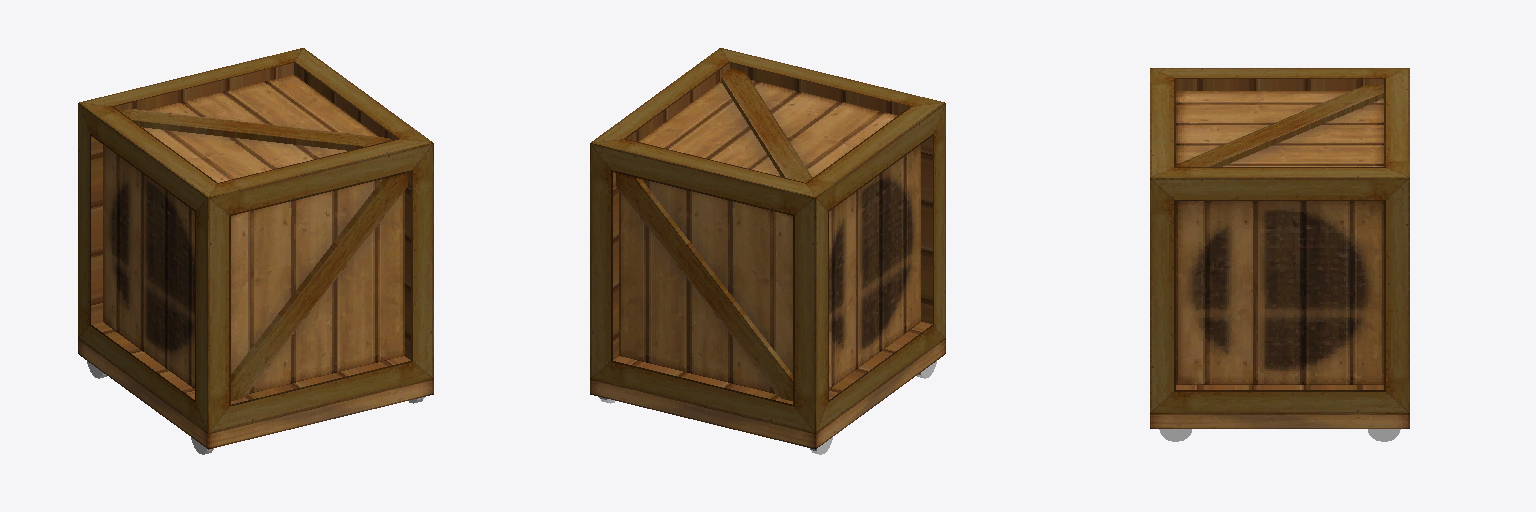
3 views of the same model, side by side, from view 1: azimuth 30°, elevation 25°; view 2: azimuth 150°, elevation 25°; view 3: azimuth 270°, elevation 25° (orthographic).
Visible parts, largest first — view 1: polygon0; view 2: polygon0; view 3: polygon0, polygon1.
Boxes of the visible parts, <box> form: polygon0: <box>78,48,433,449</box>; polygon0: <box>590,48,945,449</box>; polygon0: <box>1150,68,1409,428</box>; polygon1: <box>1159,429,1400,441</box>.
Bounding box in the file's own units: 15 × 16.94 × 15.
2 materials, 1 textured.